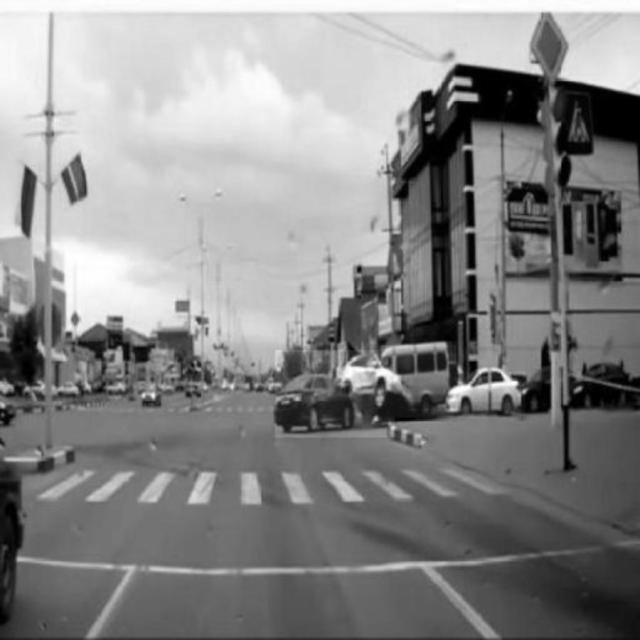accident: (275, 350, 396, 438)
vehicle: (379, 345, 456, 417), (449, 371, 525, 418)
